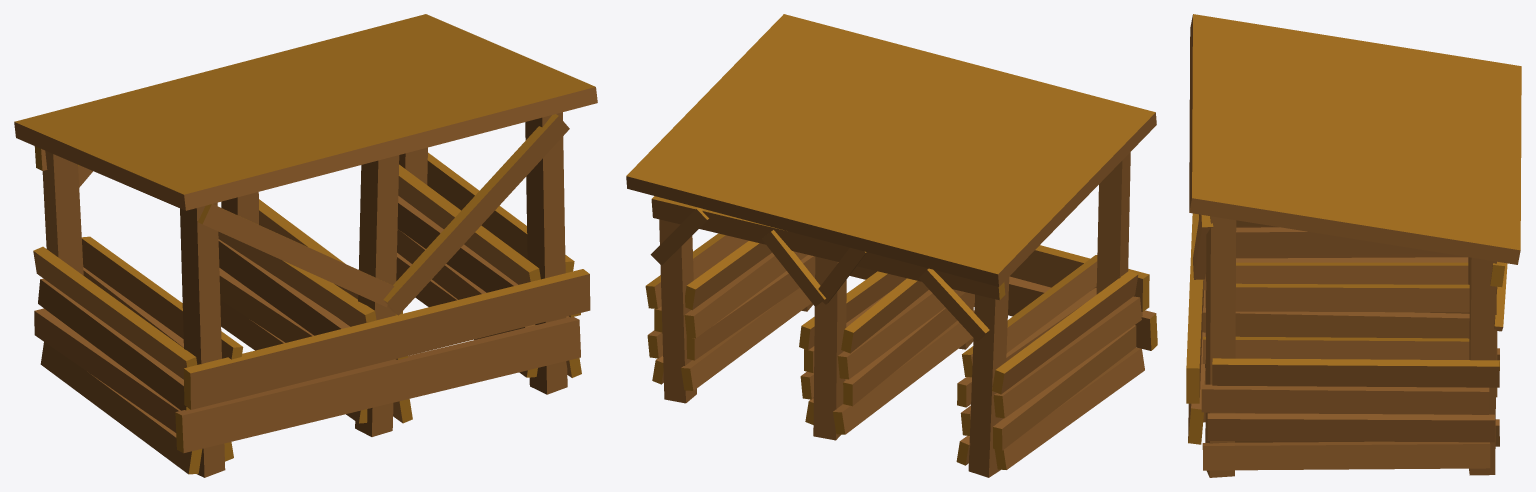
The model's file is estabulo.fbx.
3 renders of one model, left to right at view 1: azimuth 30°, elevation 25°; view 2: azimuth 150°, elevation 25°; view 3: azimuth 270°, elevation 25°, orthographic. The views are drawn at different scales.
Parts seen in each view (by area): view 1: estabulo; view 2: estabulo; view 3: estabulo.
Part boxes in pixels (bbox=[...]): estabulo: bbox=[14, 14, 597, 477]; estabulo: bbox=[626, 14, 1157, 477]; estabulo: bbox=[1186, 14, 1521, 477].
Size of the model in its own units: 646 by 451 by 474.
